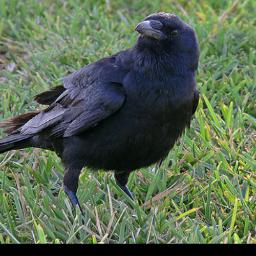Crow: (0, 12, 200, 220)
